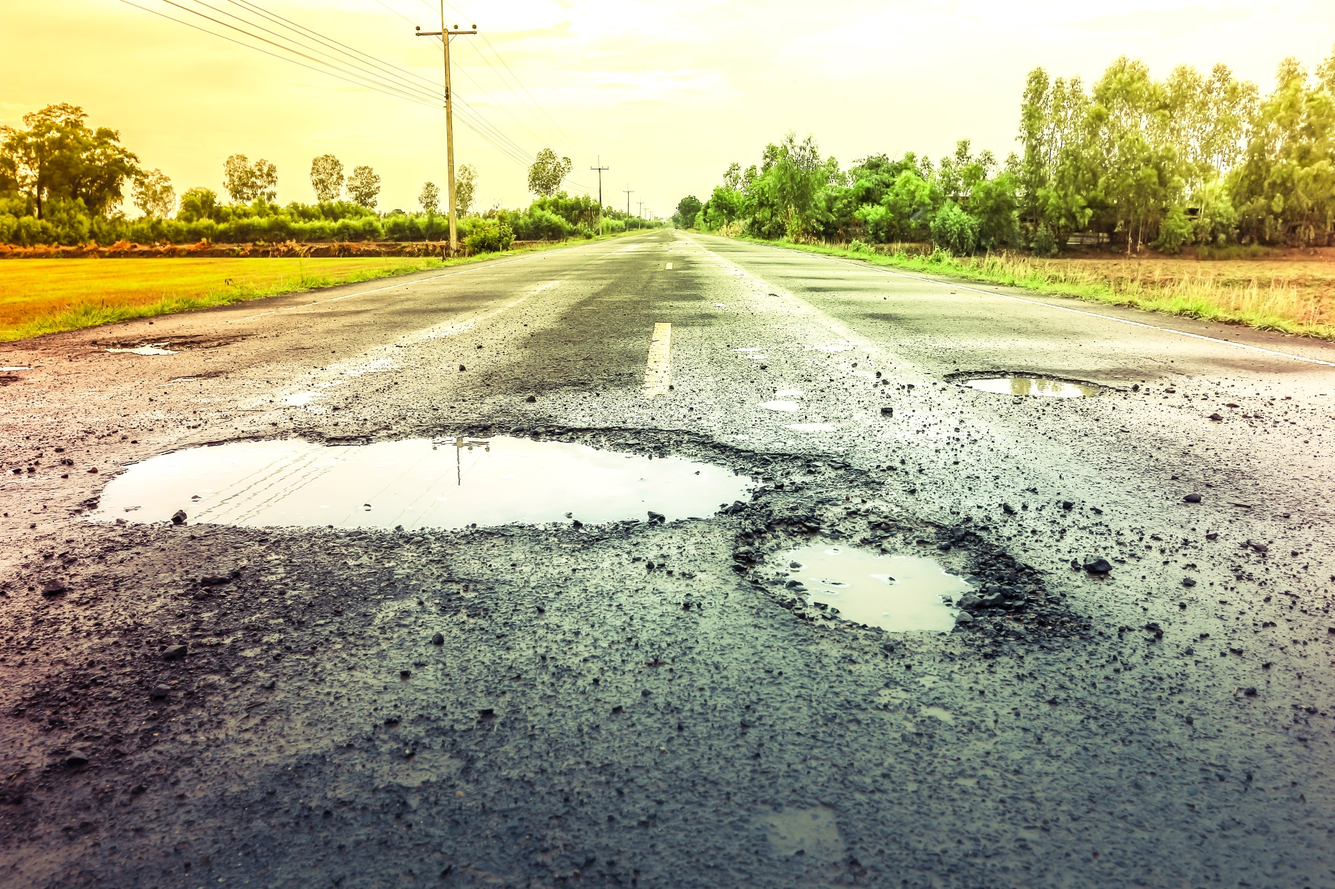Hole_in_the_road: (23, 413, 794, 532), (716, 510, 1069, 640), (919, 345, 1145, 424)
Tree: (1088, 73, 1296, 243), (1, 99, 141, 224), (303, 144, 367, 216)
